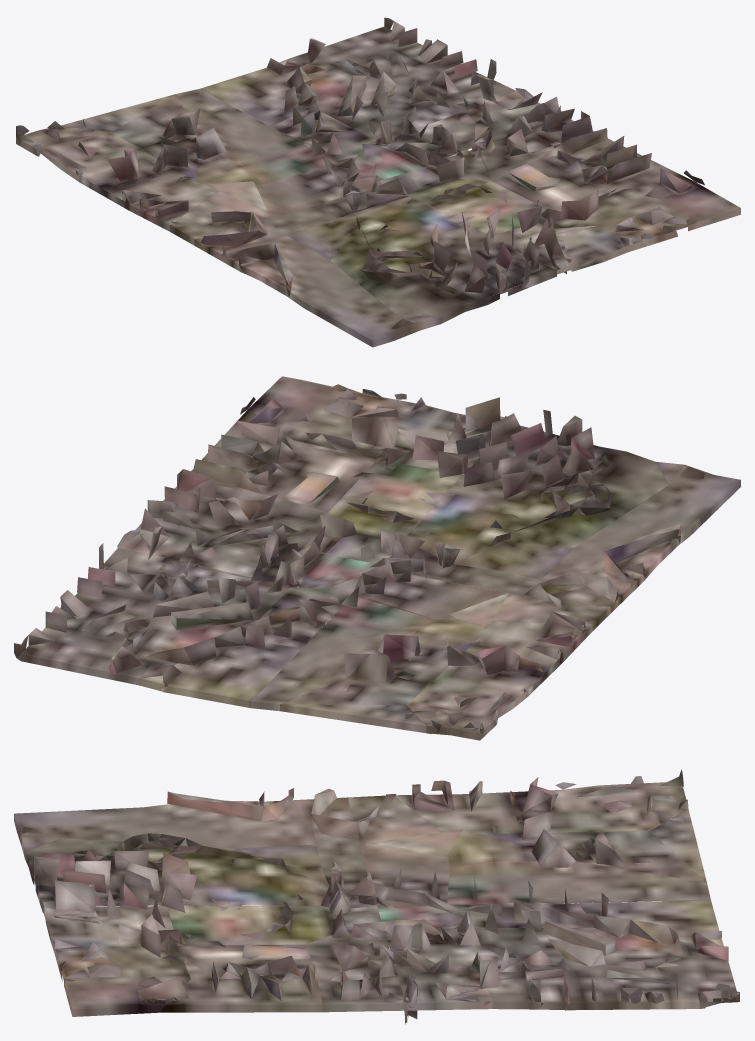
3 renders of one model, top to bottom at view 1: azimuth 30°, elevation 25°; view 2: azimuth 150°, elevation 25°; view 3: azimuth 270°, elevation 25°, orthographic. The views are drawn at different scales.
Visible parts, largest first — view 1: Mesh_0; view 2: Mesh_0; view 3: Mesh_0.
Part boxes in pixels (x1,y1,x2,y2): Mesh_0: (16, 17, 740, 347); Mesh_0: (14, 376, 740, 740); Mesh_0: (14, 769, 739, 1024).
Bounding box in the file's own units: 1070 × 124 × 1320.
1 material, 1 textured.
